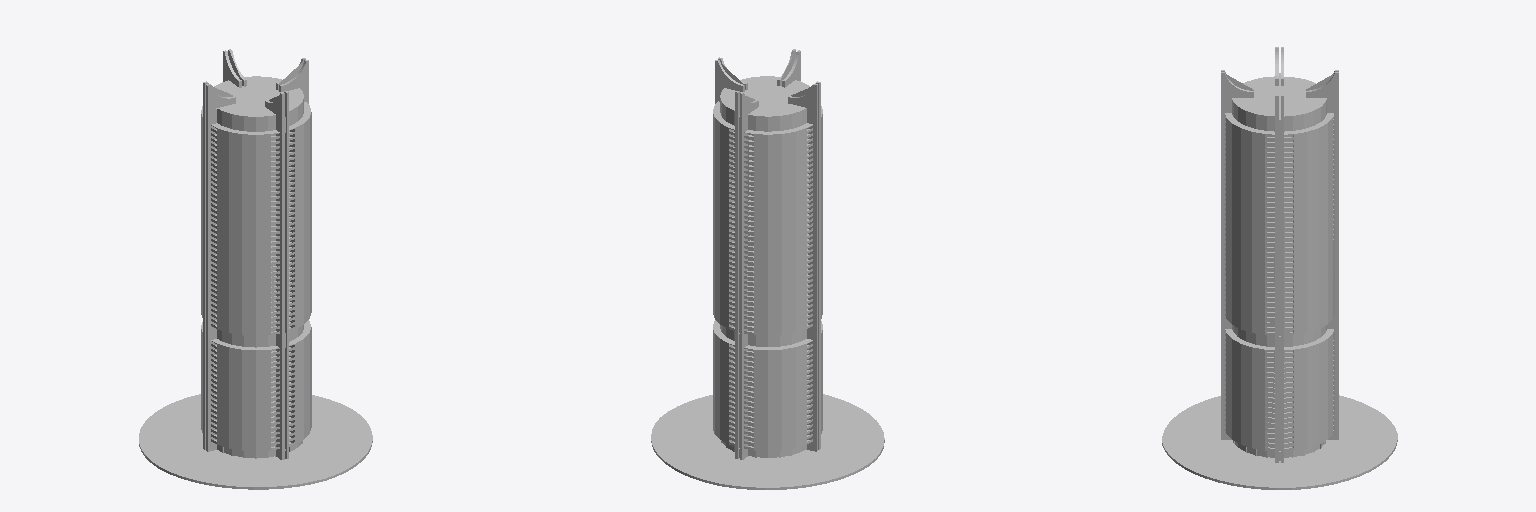
The model's file is tall2.obj.
The picture shows the model from 3 angles: view 1: azimuth 30°, elevation 25°; view 2: azimuth 150°, elevation 25°; view 3: azimuth 270°, elevation 25°; orthographic projection.
Parts seen in each view (by area): view 1: Mesh1109_Model; view 2: Mesh1109_Model; view 3: Mesh1109_Model.
Boxes of the visible parts, x1,y1,x2,y2 form: Mesh1109_Model: [139, 49, 372, 489]; Mesh1109_Model: [651, 49, 884, 489]; Mesh1109_Model: [1162, 47, 1397, 489].
Bounding box in the file's own units: 682 × 1178 × 680.